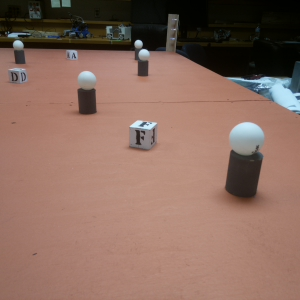blockA: (65, 49, 76, 62)
blockD: (8, 68, 27, 84)
blockF: (130, 119, 158, 151)
corner: (166, 10, 178, 53)
obstacle: (226, 122, 264, 201), (76, 70, 101, 117), (11, 38, 27, 64), (137, 50, 149, 77), (135, 40, 144, 59)
